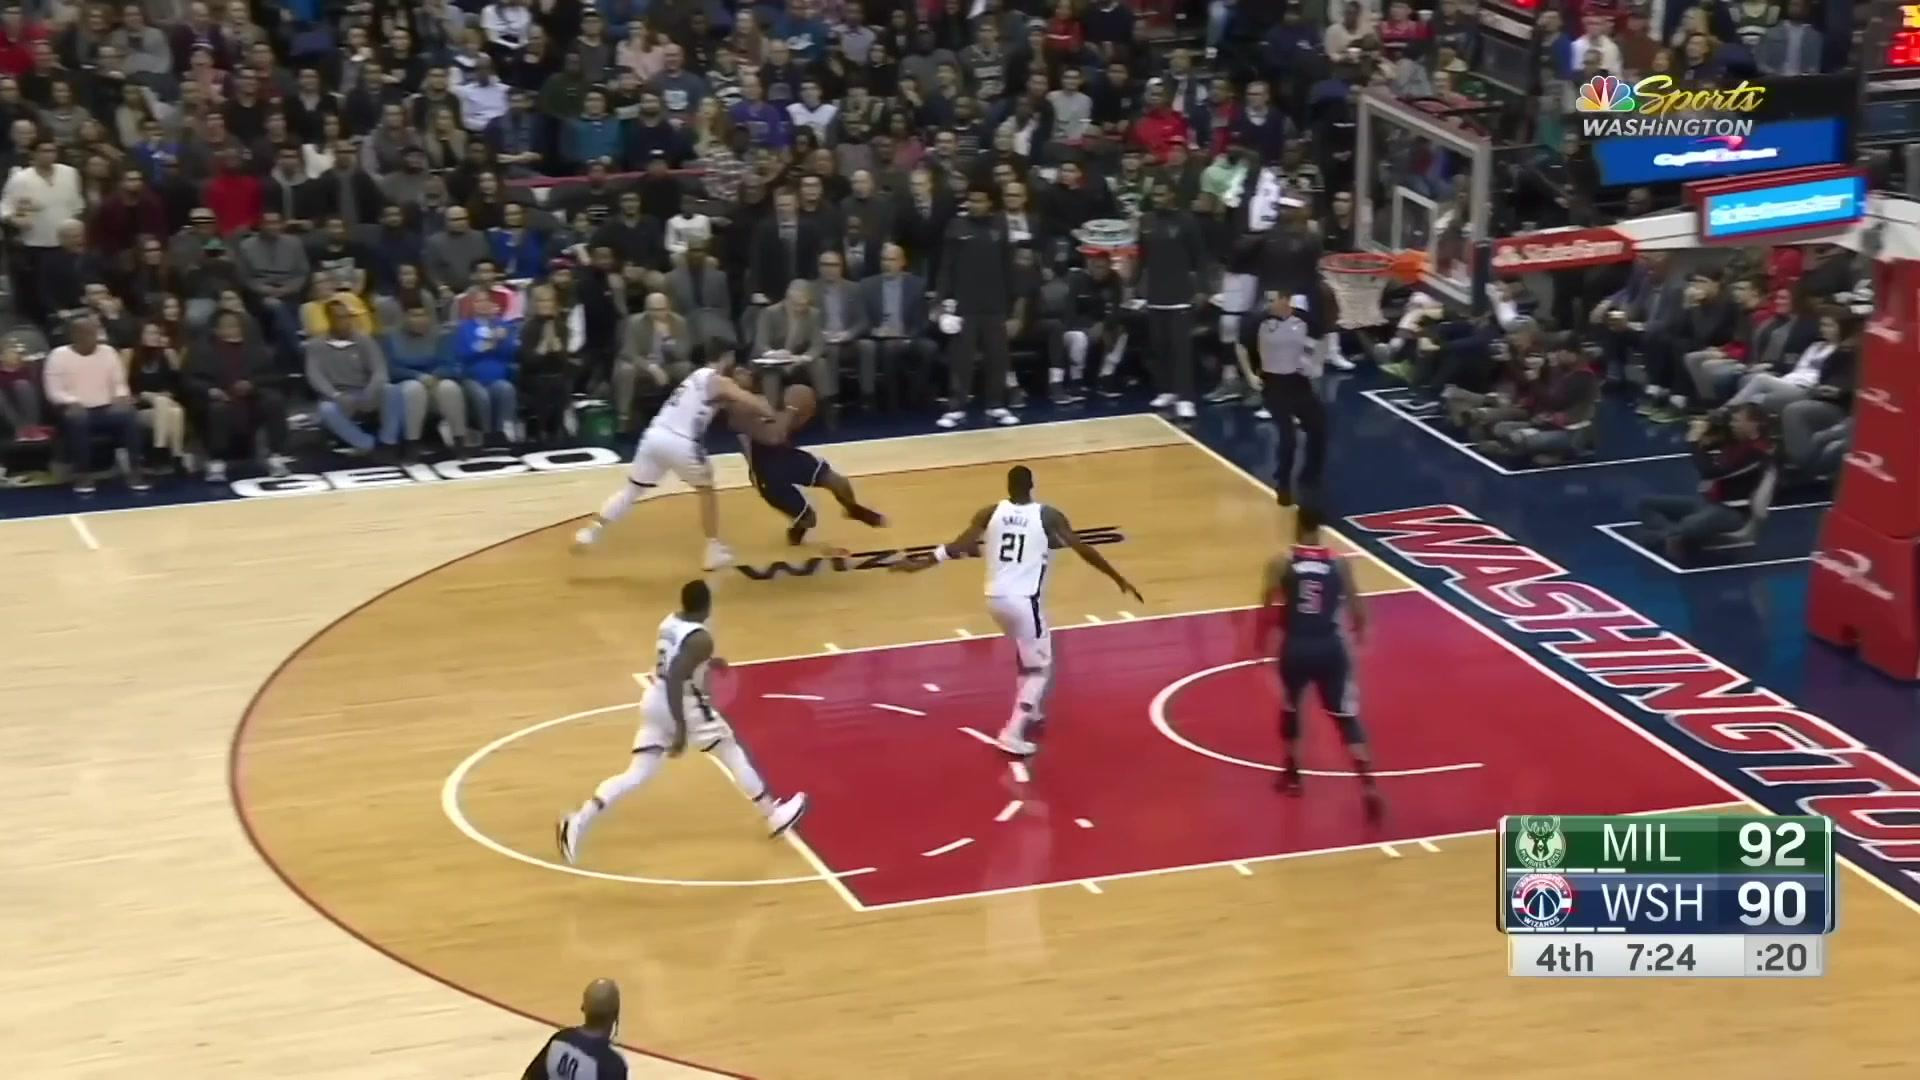foul: (592, 335, 880, 558)
